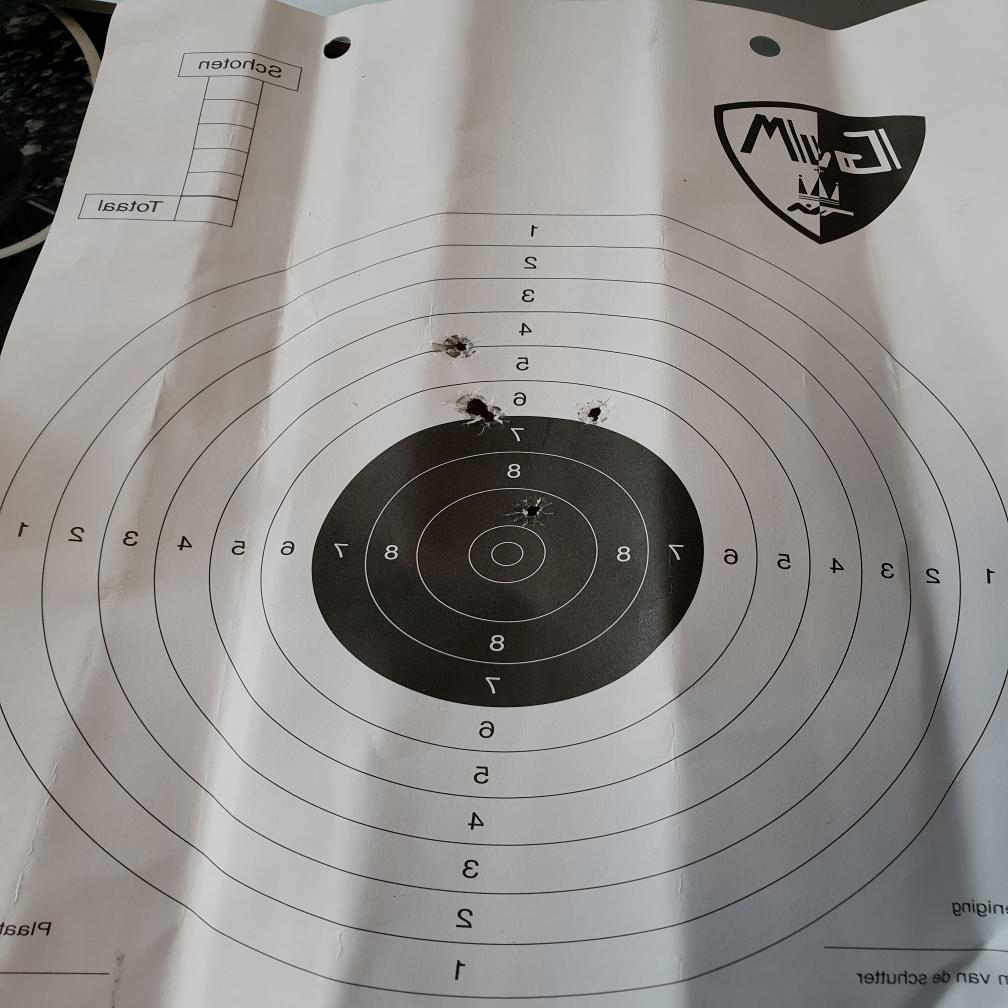5: (440, 334, 478, 360)
6: (453, 391, 488, 417)
7: (574, 397, 613, 424), (476, 409, 508, 431)
8: (506, 497, 552, 530)
Target: (0, 212, 1008, 1001)
black_contour: (310, 414, 708, 708)
